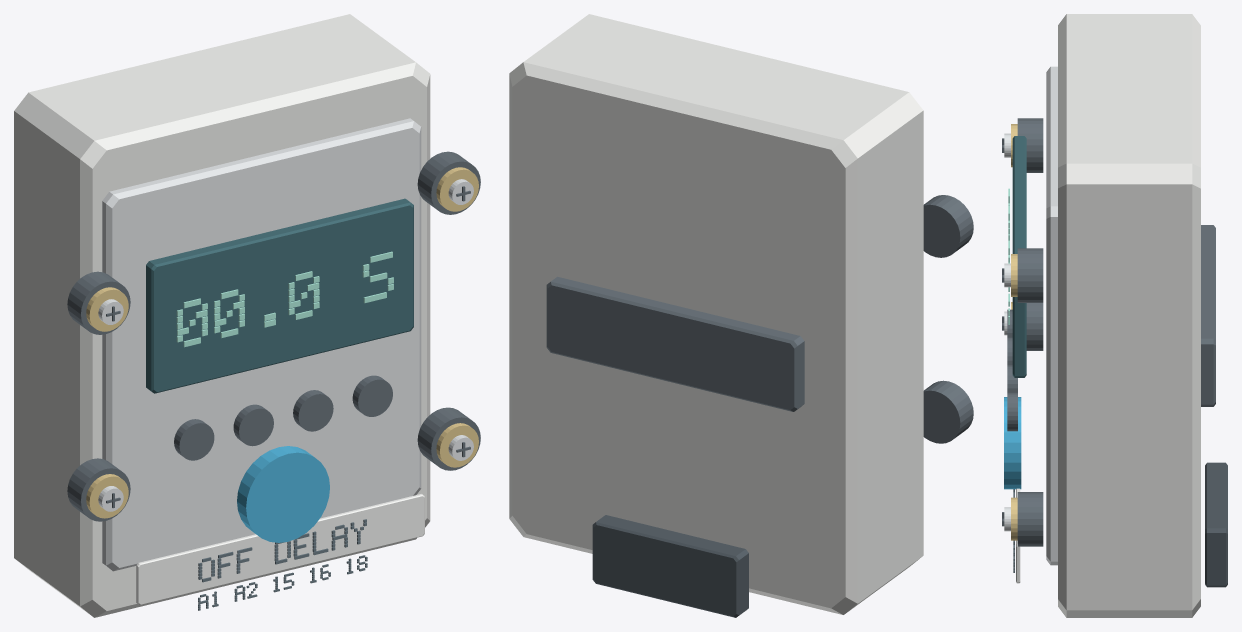
File: timerOffDelay.glb
The picture shows the model from 3 angles, left to right: view 1: azimuth 30°, elevation 25°; view 2: azimuth 150°, elevation 25°; view 3: azimuth 270°, elevation 25°; orthographic projection. The views are drawn at different scales.
Visible parts, largest first — view 1: timerOffDelay-detailed; view 2: timerOffDelay-detailed; view 3: timerOffDelay-detailed.
Part boxes in pixels (left/top/right/bottom): timerOffDelay-detailed: left=14, top=14, right=480, bottom=617; timerOffDelay-detailed: left=509, top=14, right=973, bottom=617; timerOffDelay-detailed: left=1002, top=14, right=1227, bottom=617.
Bounding box in the file's own units: 2.52 × 2.95 × 1.29.
